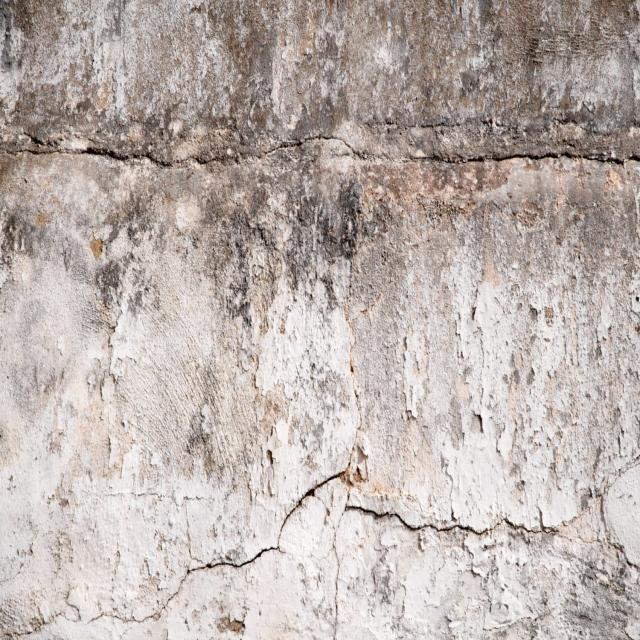Wall_Cracks: (1, 76, 640, 637)
